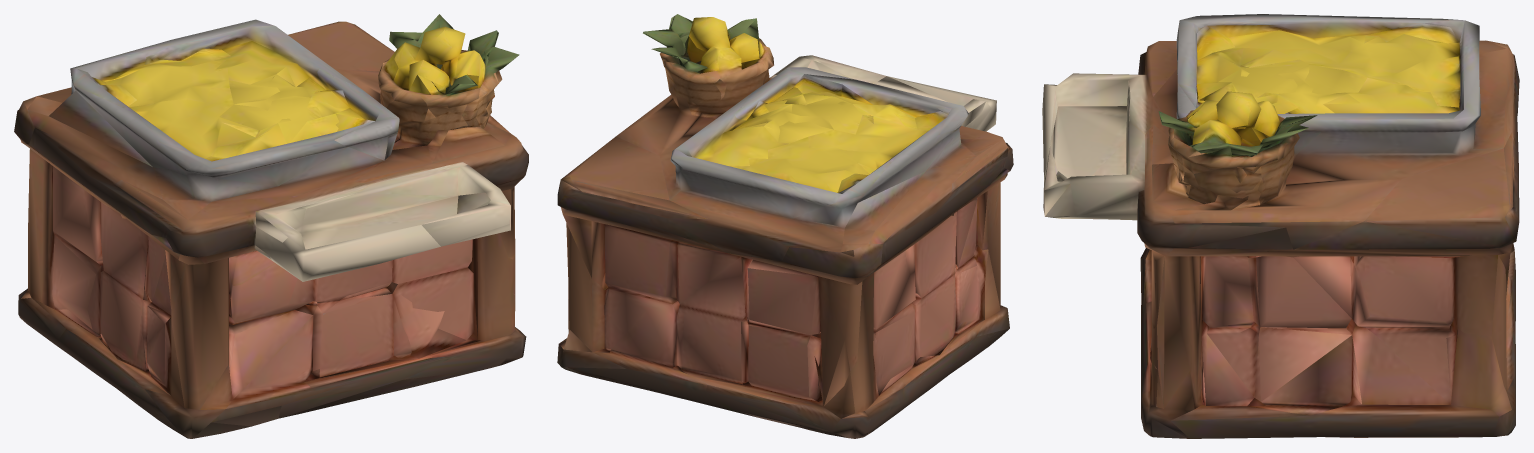
The model's file is IT_사물_s4_dessert_stand_granita.glb.
3 renders of one model, left to right at view 1: azimuth 30°, elevation 25°; view 2: azimuth 150°, elevation 25°; view 3: azimuth 270°, elevation 25°, orthographic. The views are drawn at different scales.
Parts seen in each view (by area): view 1: tripo_node_6820736c-81e5-453f-91b4-035da4e9018a; view 2: tripo_node_6820736c-81e5-453f-91b4-035da4e9018a; view 3: tripo_node_6820736c-81e5-453f-91b4-035da4e9018a.
Part boxes in pixels (<box>): tripo_node_6820736c-81e5-453f-91b4-035da4e9018a: <box>14,14,528,438</box>; tripo_node_6820736c-81e5-453f-91b4-035da4e9018a: <box>557,14,1013,438</box>; tripo_node_6820736c-81e5-453f-91b4-035da4e9018a: <box>1042,14,1519,438</box>.
Size of the model in its own units: 1.5 by 1.19 by 1.6.
Materials: 1 (1 with a texture image).
